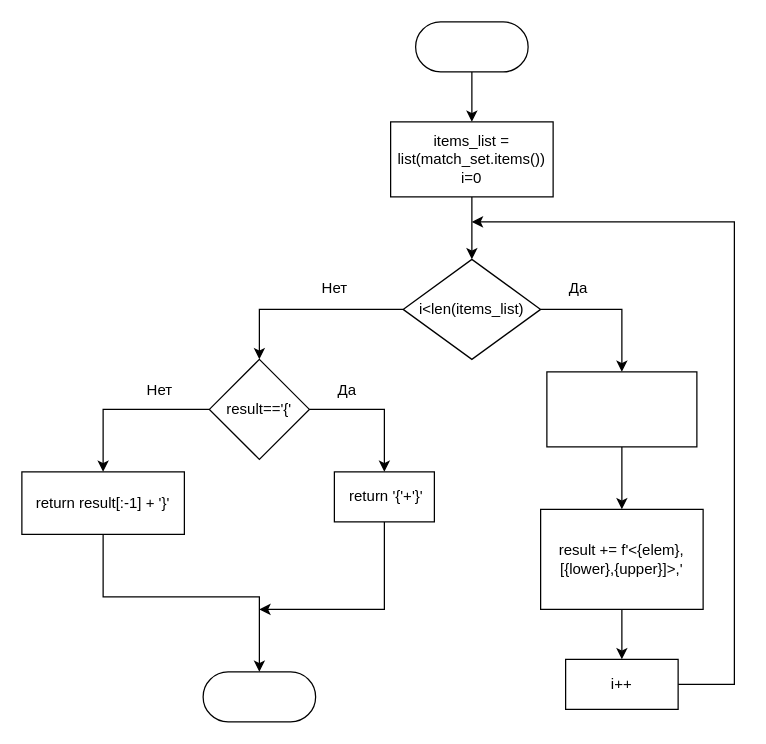
Image size: 766x744. Some labels were removed from this diagram. The shapes that lost their labels are listed below. From the top down, each one's box as (x1, y1, x2, y2) in pixels, then its label:
(414, 21, 528, 72): begin
(546, 371, 697, 447): elem, deg = items_list[i]
(202, 671, 316, 722): end
